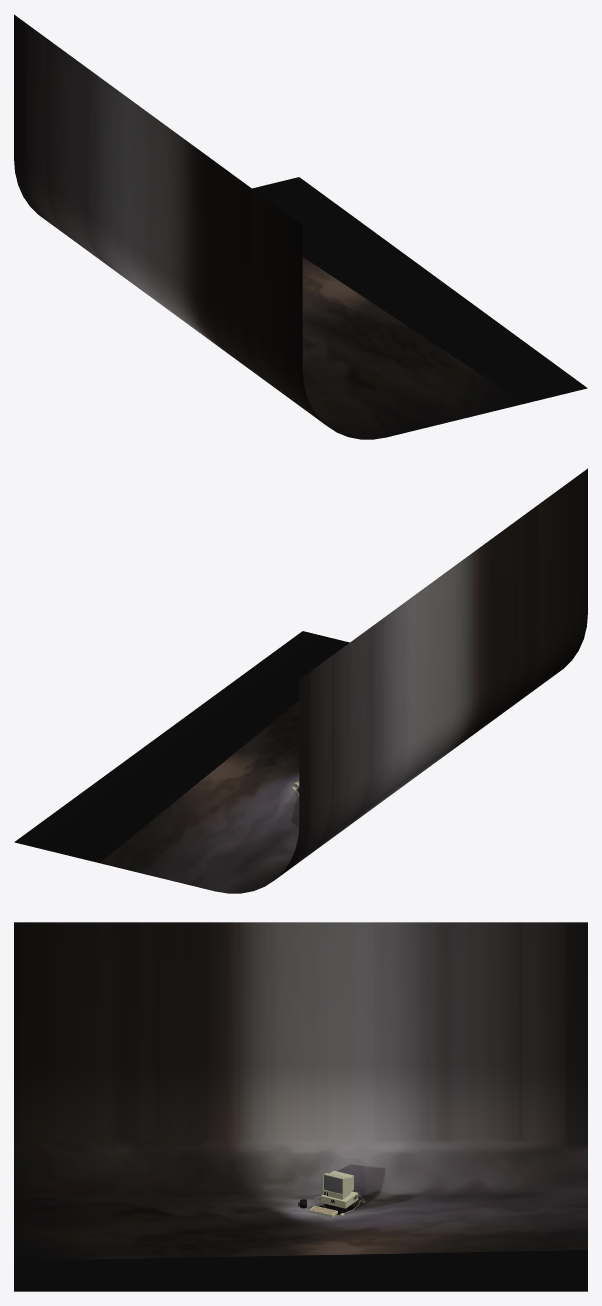
Rendered from computador.glb.
3 renders of one model, top to bottom at view 1: azimuth 30°, elevation 25°; view 2: azimuth 150°, elevation 25°; view 3: azimuth 270°, elevation 25°, orthographic.
Parts seen in each view (by area): view 1: Plano; view 2: Plano; view 3: Plano, Tela.
Part boxes in pixels (<box>): Plano: <box>14,14,587,439</box>; Plano: <box>14,468,587,893</box>; Plano: <box>14,922,587,1291</box>; Tela: <box>322,1170,353,1199</box>.
Bounding box in the file's own units: 16.04 × 13.23 × 28.12.
35 materials, 1 textured.
